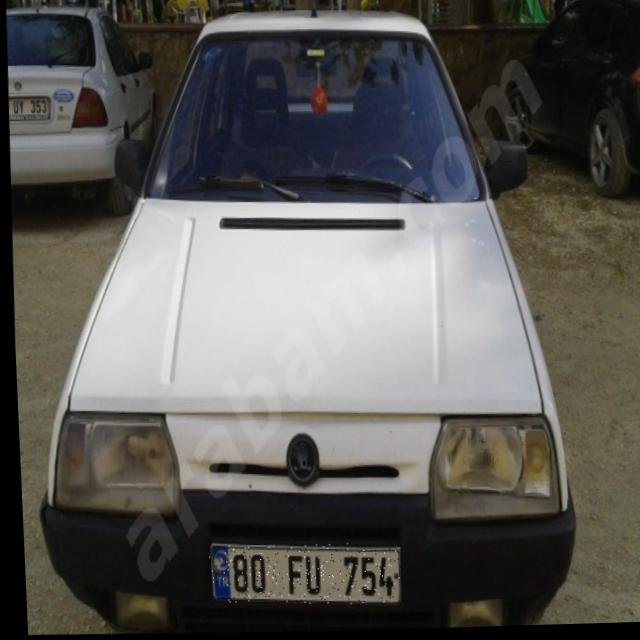license_plate: (202, 541, 396, 610)
